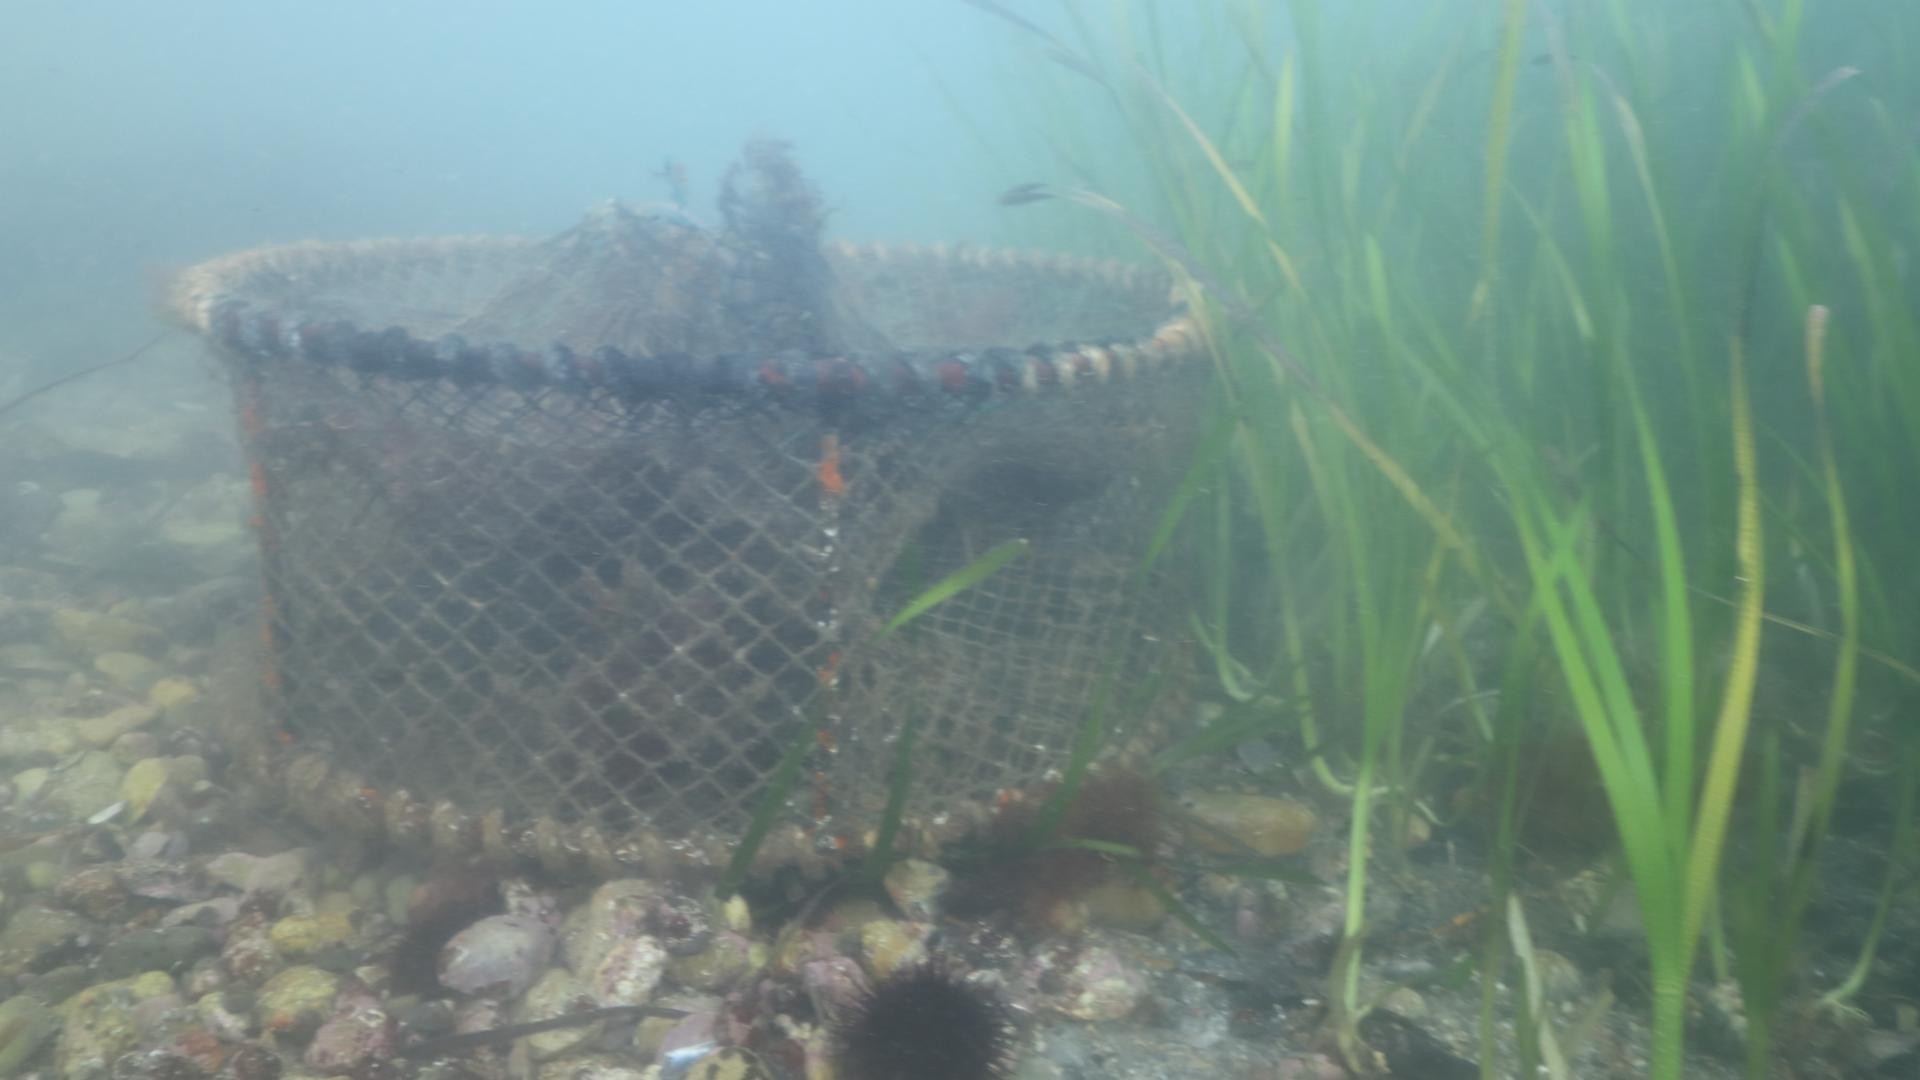circular fish trap: (169, 135, 1221, 893)
